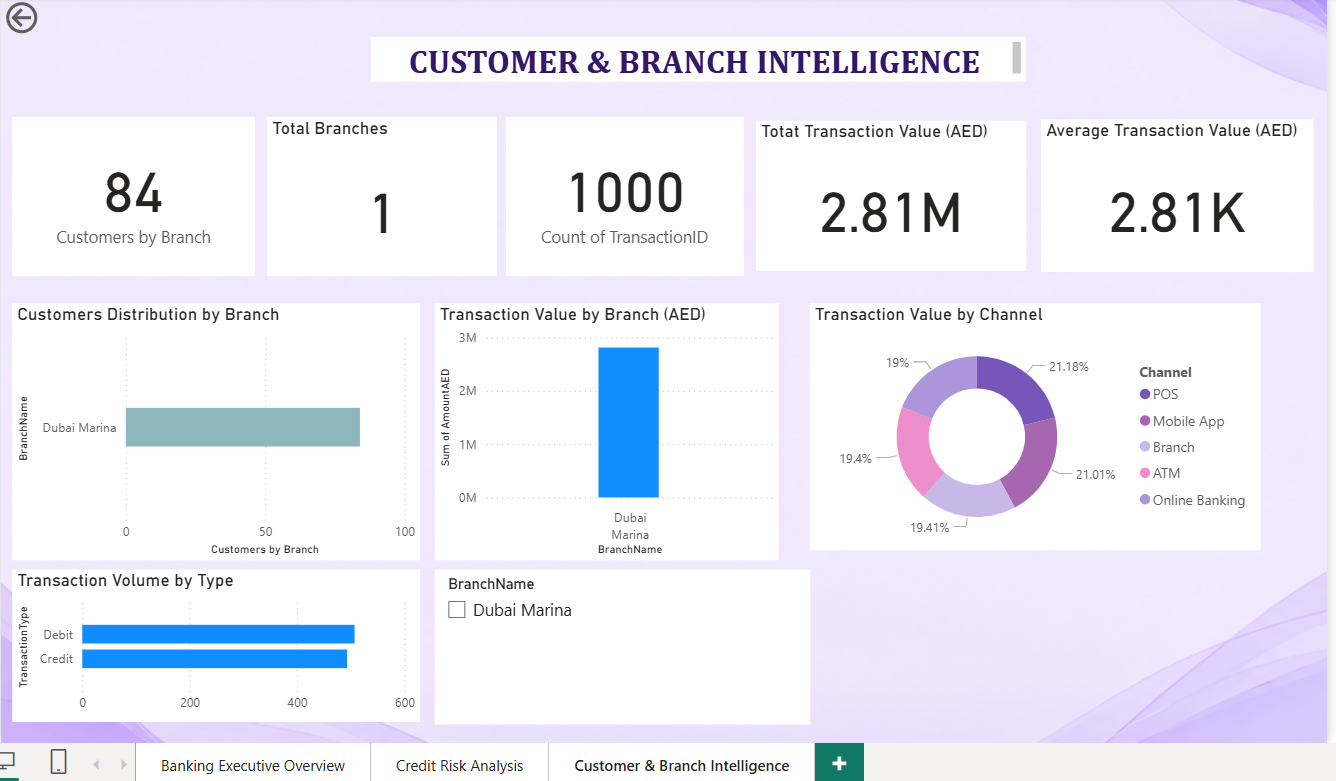

The dashboard page shown, as its layout file describes it:
{"tool":"powerbi","page":{"name":"Customer & Branch Intelligence","canvas":[1280,720],"ordinal":2},"visuals":[{"type":"card","title":"Total Branches","fields":{"Values":["Count(Branches.BranchID)"]},"box":[257,115.8,222,153.2],"z":0},{"type":"card","title":"Totat Transaction Value (AED)","fields":{"Values":["Sum(Transactions.AmountAED)"]},"box":[728.7,119.4,260.6,144.8],"z":1000},{"type":"card","title":"Average Transaction Value (AED)","fields":{"Values":["Avg(Transactions.AmountAED)"]},"box":[1003.8,118.2,263,147.2],"z":2000},{"type":"textbox","box":[357.1,38.6,632.2,43.4],"z":3000},{"type":"card","fields":{"Values":["Branches.Customers by Branch"]},"box":[11,115.3,234.6,153.7],"z":4000},{"type":"card","fields":{"Values":["Count(Transactions.TransactionID)"]},"box":[487.4,115.8,229.2,153.2],"z":5000},{"type":"clusteredBarChart","title":"Customers Distribution by Branch","fields":{"Category":["Branches.BranchName"],"Y":["Branches.Customers by Branch"]},"box":[11,295,393.8,248.4],"z":6000},{"type":"clusteredColumnChart","title":"Transaction Value by Branch (AED)","fields":{"Category":["Branches.BranchName"],"Y":["Sum(Transactions.AmountAED)"]},"box":[418.5,295,332.1,248.4],"z":7000},{"type":"donutChart","title":"Transaction Value by Channel","fields":{"Category":["Transactions.Channel"],"Y":["Sum(Transactions.AmountAED)"]},"box":[780.8,295,435,238.8],"z":8000},{"type":"clusteredBarChart","title":" Transaction Volume by Type","fields":{"Category":["Transactions.TransactionType"],"Y":["Count(Transactions.TransactionID)"]},"box":[11,553,393.8,146.8],"z":9000},{"type":"slicer","fields":{"Values":["Branches.BranchName"]},"box":[418.5,553,362.3,149.6],"z":10000},{"type":"actionButton","box":[0,0,100,40],"z":11000}]}

Visuals, with their boxes on the page's 1280x720 design canvas (x1, y1, x2, y2). These are canvas units, not pixel positions in the 1336x781 screenshot, which may show the page scaled, cropped or inside an application window:
"Total Branches" card: select_region(257, 116, 479, 269)
"Totat Transaction Value (AED)" card: select_region(729, 119, 989, 264)
"Average Transaction Value (AED)" card: select_region(1004, 118, 1267, 265)
textbox: select_region(357, 39, 989, 82)
card - Branches.Customers by Branch: select_region(11, 115, 246, 269)
card - Count(Transactions.TransactionID): select_region(487, 116, 717, 269)
"Customers Distribution by Branch" clusteredBarChart: select_region(11, 295, 405, 543)
"Transaction Value by Branch (AED)" clusteredColumnChart: select_region(418, 295, 751, 543)
"Transaction Value by Channel" donutChart: select_region(781, 295, 1216, 534)
" Transaction Volume by Type" clusteredBarChart: select_region(11, 553, 405, 700)
slicer - Branches.BranchName: select_region(418, 553, 781, 703)
actionButton: select_region(0, 0, 100, 40)
